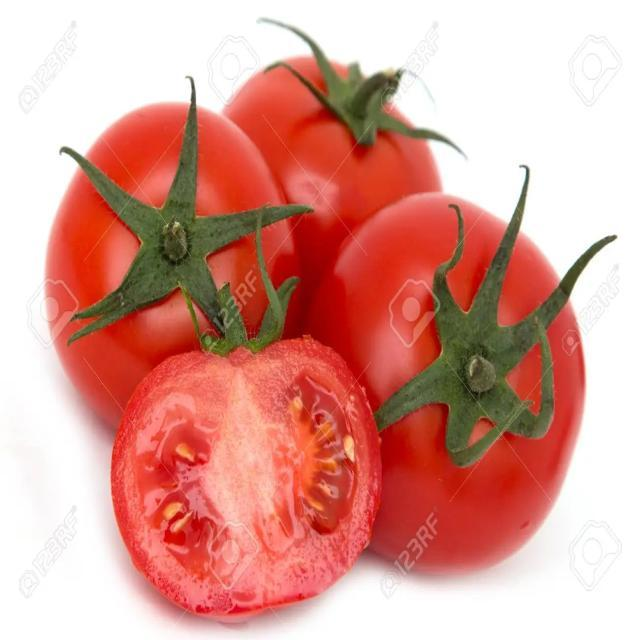kirmizi: (28, 54, 578, 632)
